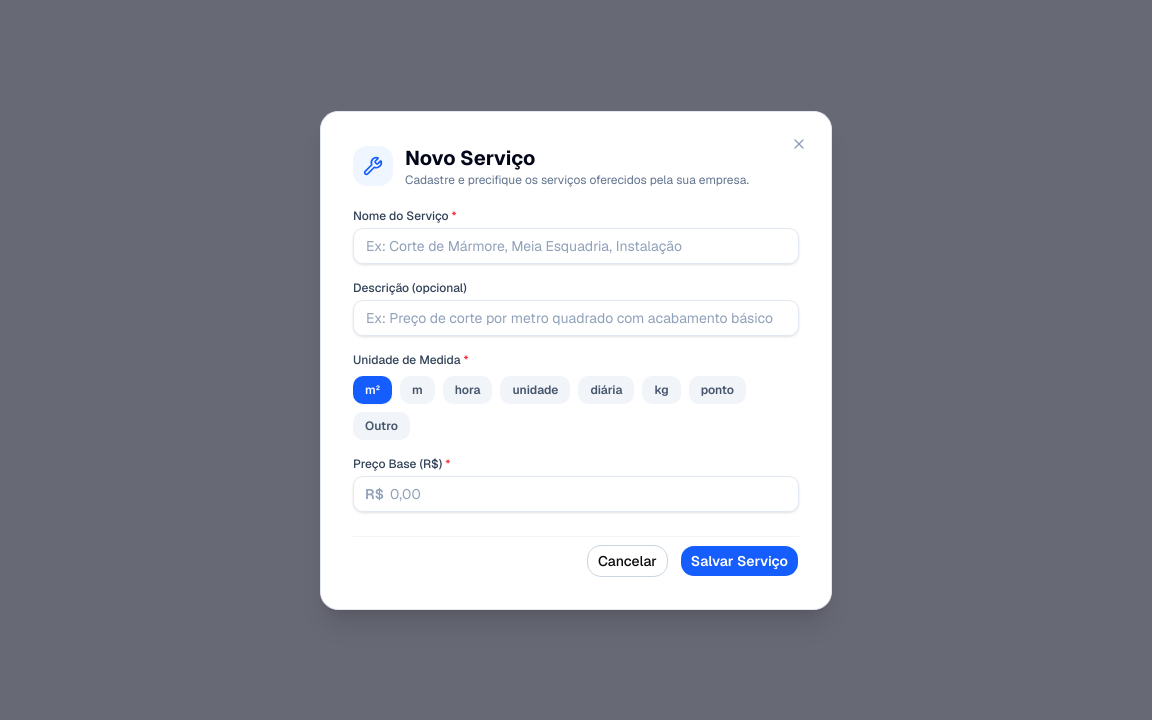
Test: ServiceFormModal › validates zero or negative base price on submit
Type "Instalação" into the field labelled "Nome do Serviço *" at (576, 246), box x1=353 y1=228 x2=799 y2=264
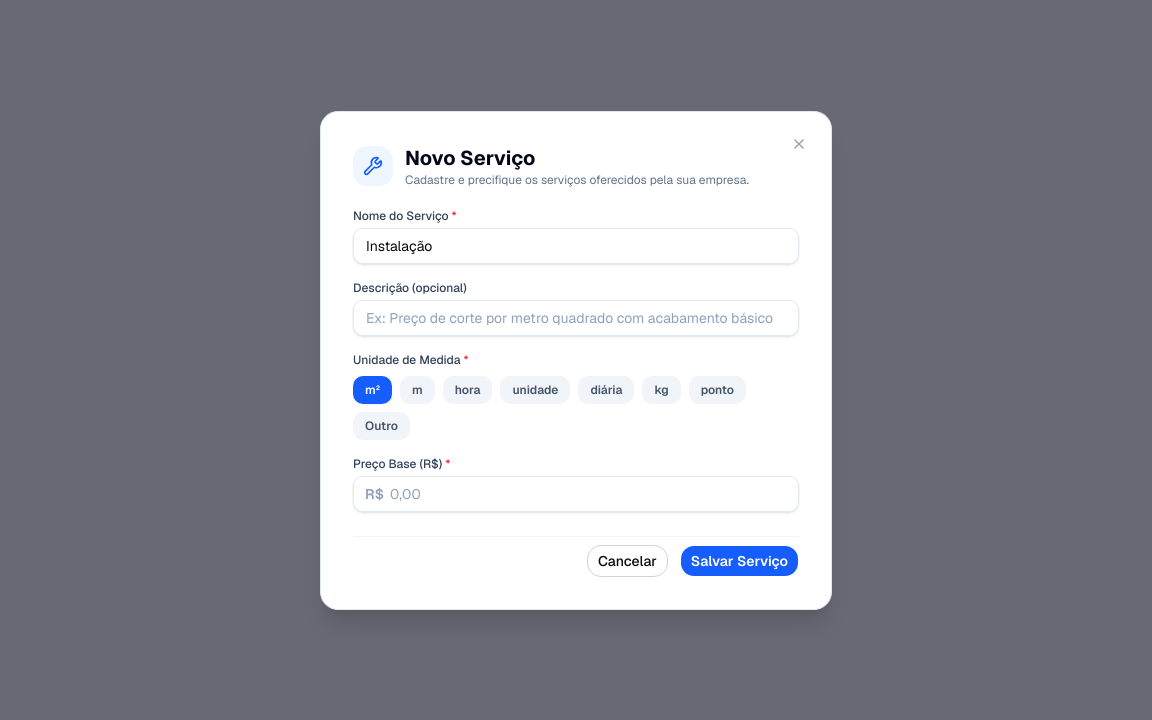
Type "0" into the field labelled "Preço Base (R$) *" at (576, 494), box x1=353 y1=476 x2=799 y2=512
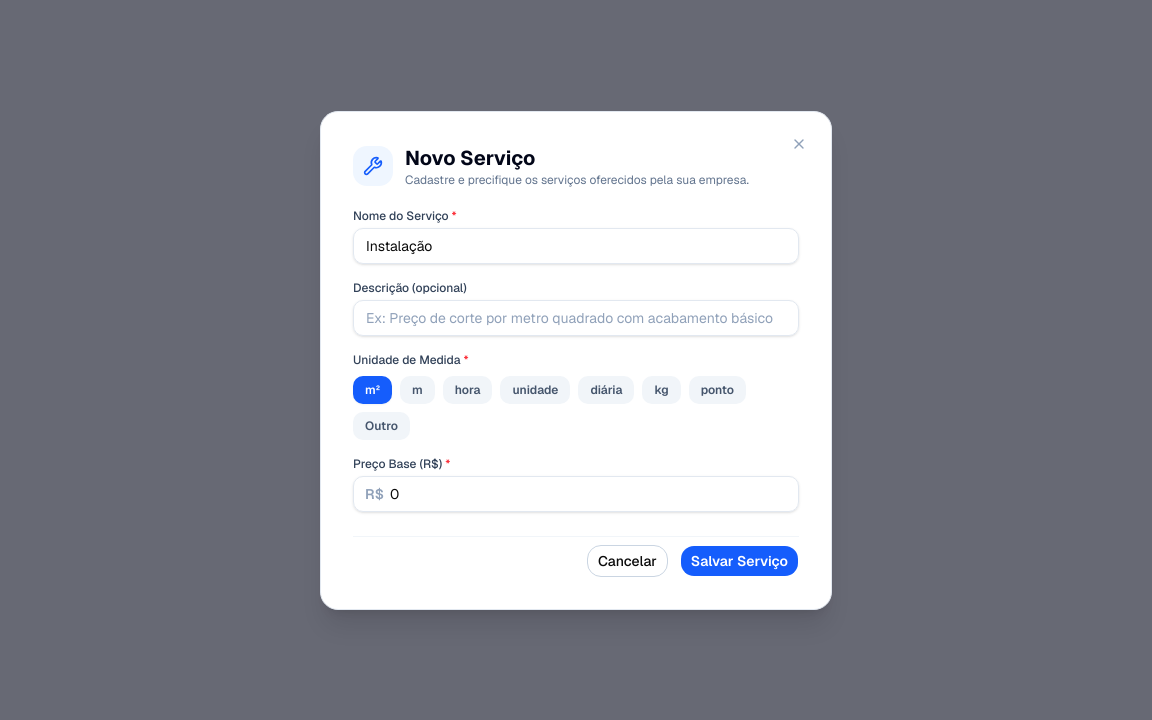
Click the button "Salvar Serviço" at (739, 560), box x1=680 y1=544 x2=799 y2=576
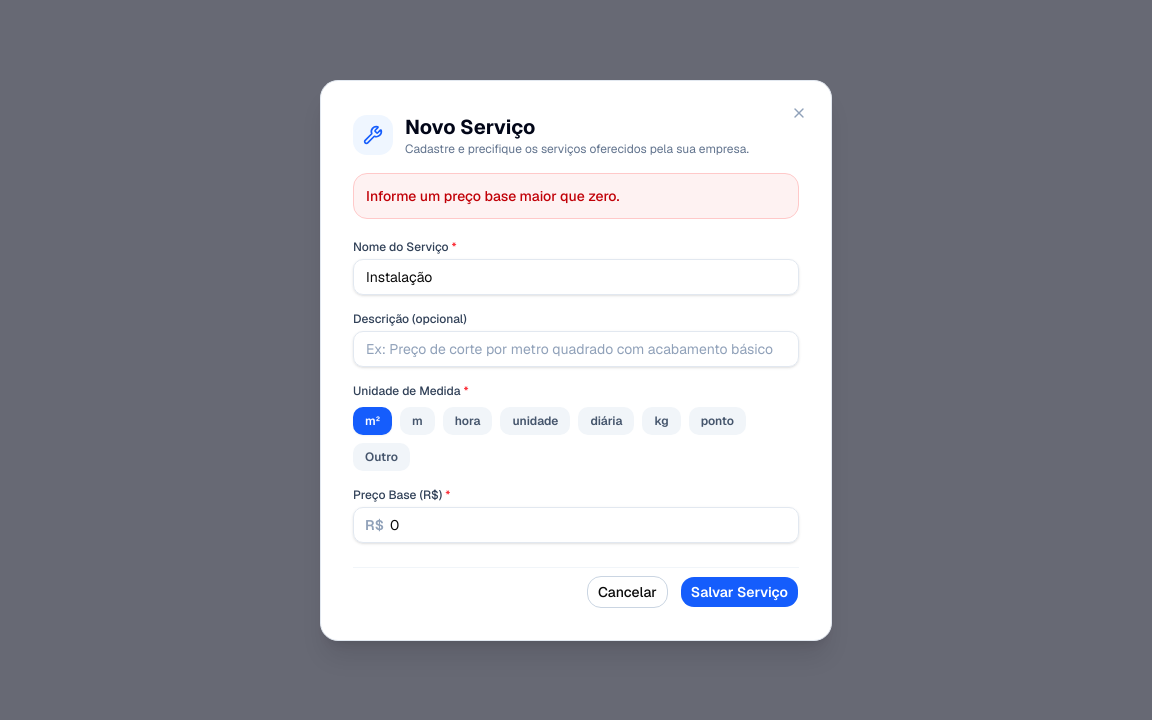
Expected: the message reads "Informe um preço base maior que zero.", x1=366 y1=186 x2=620 y2=204
